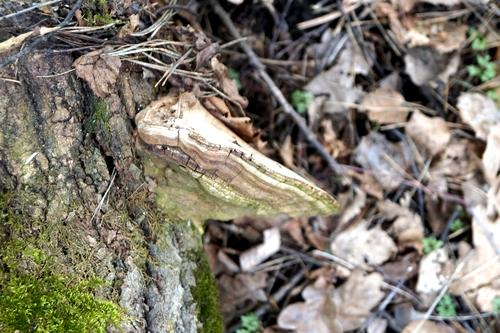Ganoderma - Fruit Body: (134, 84, 337, 227)
